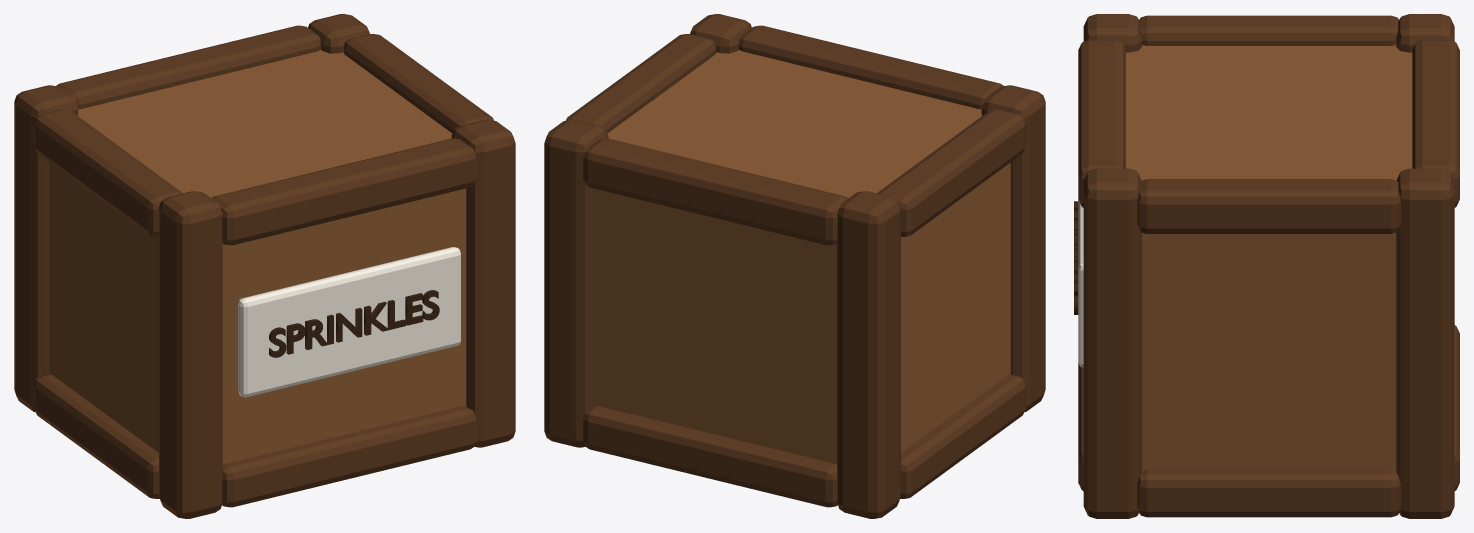
The model's file is crate.glb.
3 renders of one model, left to right at view 1: azimuth 30°, elevation 25°; view 2: azimuth 150°, elevation 25°; view 3: azimuth 270°, elevation 25°, orthographic. The views are drawn at different scales.
Visible parts, largest first — view 1: crate; view 2: crate; view 3: crate.
Part boxes in pixels (x1,y1,x2,y2): crate: [14, 14, 515, 518]; crate: [544, 14, 1045, 518]; crate: [1074, 14, 1459, 518].
Bounding box in the file's own units: 0.82 × 0.7 × 0.728.
